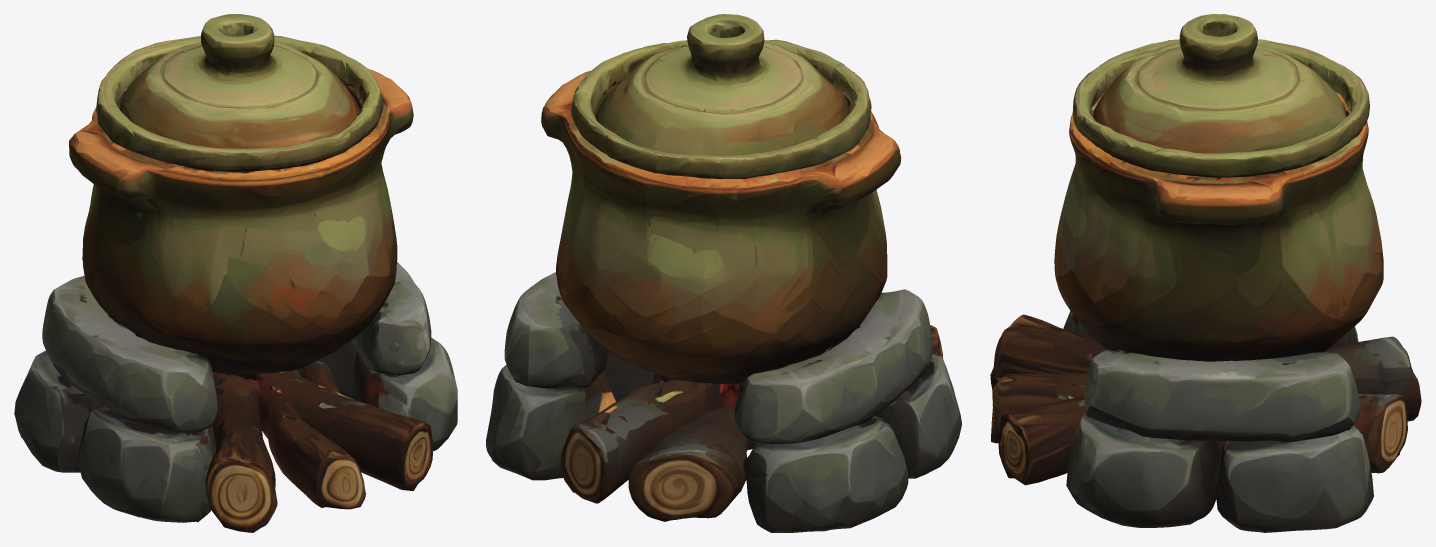
File: struct_cook_pot.glb
3 renders of one model, left to right at view 1: azimuth 30°, elevation 25°; view 2: azimuth 150°, elevation 25°; view 3: azimuth 270°, elevation 25°, orthographic. The views are drawn at different scales.
Parts seen in each view (by area): view 1: struct_cook_pot; view 2: struct_cook_pot; view 3: struct_cook_pot.
Part boxes in pixels (x1,y1,x2,y2): struct_cook_pot: [14, 14, 457, 532]; struct_cook_pot: [486, 14, 961, 532]; struct_cook_pot: [990, 14, 1421, 532].
Size of the model in its own units: 1.01 by 1.1 by 1.02.
Materials: 1 (1 with a texture image).
